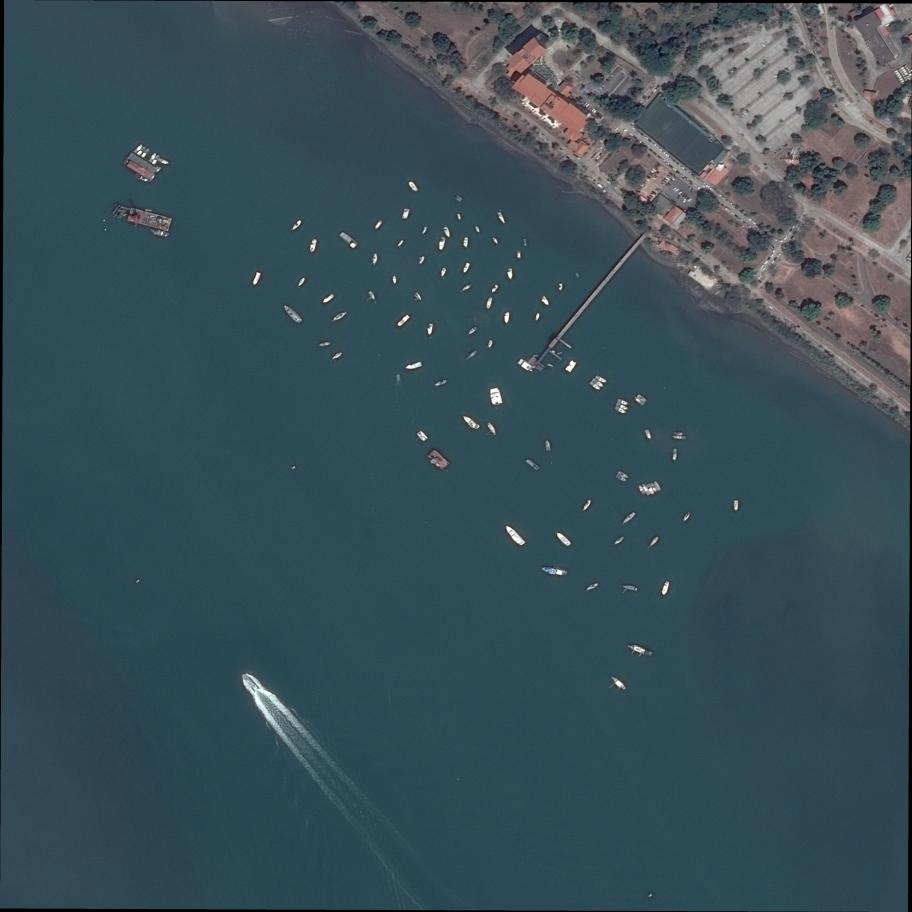ship: (126, 207, 174, 233), (123, 158, 153, 180), (128, 152, 157, 174), (504, 523, 526, 548), (427, 449, 450, 471), (282, 304, 303, 324), (628, 643, 654, 658), (541, 564, 569, 577), (462, 414, 481, 431), (339, 231, 358, 248), (241, 672, 257, 691), (555, 531, 572, 548), (610, 675, 627, 692), (489, 387, 503, 406), (150, 227, 170, 239), (517, 358, 533, 373), (622, 511, 637, 525), (396, 314, 411, 328), (525, 458, 540, 471), (486, 421, 497, 436), (623, 583, 639, 593), (661, 580, 671, 596), (407, 180, 419, 193), (322, 293, 335, 305), (591, 377, 605, 388), (586, 581, 600, 592), (333, 311, 347, 322), (406, 362, 423, 371), (417, 430, 429, 442), (539, 295, 551, 307), (648, 536, 660, 548), (291, 219, 303, 231), (589, 380, 602, 391), (566, 360, 577, 373), (614, 405, 628, 415), (614, 473, 628, 483), (136, 145, 147, 157), (617, 470, 630, 480), (641, 483, 651, 496), (615, 402, 629, 411), (252, 272, 261, 286), (614, 535, 625, 546), (133, 143, 144, 154), (582, 499, 592, 511), (595, 374, 607, 384), (310, 238, 318, 253), (401, 207, 410, 220), (438, 237, 446, 251), (634, 396, 645, 406), (467, 350, 478, 360), (140, 148, 150, 159), (413, 291, 423, 302), (367, 290, 377, 301), (653, 480, 662, 492), (646, 483, 655, 495), (682, 511, 691, 523), (637, 394, 647, 404), (644, 429, 653, 440), (332, 352, 343, 361), (148, 152, 157, 163), (617, 398, 629, 406), (498, 212, 506, 224), (485, 297, 493, 309), (435, 379, 447, 387), (443, 226, 451, 238), (374, 220, 383, 230), (151, 155, 160, 165), (468, 326, 478, 335), (650, 482, 658, 493), (638, 484, 646, 495), (158, 158, 170, 165), (462, 283, 472, 291), (440, 267, 448, 277), (504, 311, 510, 324), (463, 262, 470, 273), (672, 448, 678, 460), (427, 323, 433, 335), (491, 284, 499, 293), (672, 435, 686, 440), (298, 277, 305, 287), (487, 339, 494, 349), (545, 440, 551, 451), (463, 237, 469, 248), (155, 166, 163, 174), (534, 312, 541, 321), (149, 174, 156, 183), (418, 256, 425, 265), (140, 176, 149, 183), (397, 239, 404, 247), (455, 195, 463, 202), (734, 500, 739, 511), (320, 342, 331, 347), (508, 268, 513, 279), (422, 226, 428, 235), (373, 253, 377, 266), (492, 237, 499, 244), (674, 432, 684, 436), (517, 250, 521, 259), (393, 275, 397, 284), (475, 226, 480, 233), (547, 363, 554, 368), (396, 374, 401, 381), (523, 239, 527, 246), (559, 283, 563, 290), (457, 213, 461, 220)
small-vehicle: (650, 91, 655, 96), (658, 147, 663, 152), (679, 190, 684, 195), (665, 161, 670, 166), (650, 193, 656, 197), (752, 220, 756, 225), (669, 164, 674, 168), (717, 193, 722, 197), (610, 74, 615, 78), (644, 135, 648, 140), (783, 236, 788, 240), (705, 184, 710, 188), (596, 162, 600, 167), (688, 198, 692, 203), (665, 177, 670, 181), (645, 98, 649, 102), (669, 172, 673, 176), (748, 217, 752, 221), (767, 256, 771, 260), (764, 260, 768, 264), (761, 264, 765, 268), (734, 214, 738, 218), (713, 190, 717, 194), (758, 275, 762, 279), (596, 112, 600, 116), (647, 175, 651, 179), (671, 177, 675, 181), (732, 204, 736, 208), (722, 196, 726, 200), (771, 260, 775, 264), (655, 145, 659, 149), (629, 132, 633, 136), (615, 127, 619, 131), (589, 107, 593, 111), (591, 108, 595, 112), (642, 95, 646, 99), (652, 86, 656, 90), (656, 84, 660, 88), (662, 151, 666, 155), (777, 253, 781, 257), (709, 187, 713, 191), (596, 156, 600, 160), (654, 189, 658, 193), (645, 177, 649, 181), (675, 188, 679, 192), (653, 168, 657, 172), (681, 166, 685, 170), (646, 196, 651, 199), (652, 143, 657, 146), (640, 184, 645, 187), (731, 212, 735, 215), (739, 219, 743, 222), (648, 139, 652, 142), (633, 136, 637, 139), (657, 155, 661, 158), (653, 152, 657, 155), (649, 149, 653, 152), (673, 168, 677, 171), (677, 163, 681, 166), (672, 159, 676, 162), (654, 88, 657, 92), (606, 79, 610, 82), (598, 114, 601, 118), (652, 191, 656, 194), (674, 175, 678, 178), (667, 175, 671, 178), (729, 202, 733, 205), (763, 267, 767, 270), (586, 104, 590, 107), (593, 110, 597, 113), (639, 99, 642, 103), (644, 96, 647, 100), (653, 82, 656, 86), (774, 257, 777, 261), (683, 199, 686, 203), (636, 190, 640, 193), (661, 159, 665, 162), (665, 154, 669, 157), (643, 102, 646, 105), (744, 222, 747, 225), (748, 225, 751, 228), (641, 133, 644, 136), (669, 156, 672, 159), (648, 96, 651, 99), (600, 116, 603, 119), (638, 188, 641, 191), (726, 199, 729, 202), (584, 103, 587, 106), (588, 106, 591, 109), (650, 86, 653, 89), (678, 195, 680, 199), (665, 180, 669, 182), (624, 130, 628, 132)
